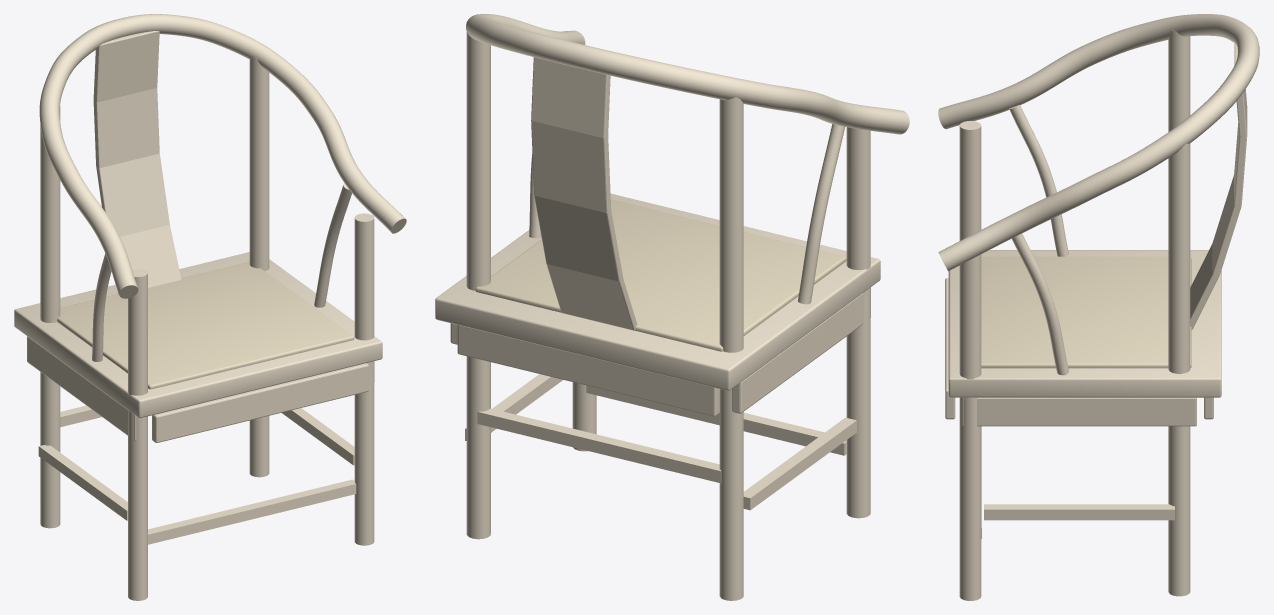
File: sg_desk_chair.glb
3 views of the same model, side by side, from view 1: azimuth 30°, elevation 25°; view 2: azimuth 150°, elevation 25°; view 3: azimuth 270°, elevation 25° (orthographic). The views are drawn at different scales.
Parts seen in each view (by area): view 1: woven, splat, ring, seat, apron, stretch, rear0, front1, front0, rear1, brace1, brace0; view 2: woven, splat, seat, apron, ring, rear0, stretch, rear1, front0, brace0, front1; view 3: woven, ring, seat, rear1, apron, front1, splat, stretch, front0, rear0, brace1, brace0.
Boxes of the visible parts, left/top/right/bottom form: woven: left=57, top=262, right=354, bottom=389; splat: left=93, top=31, right=181, bottom=293; ring: left=39, top=14, right=406, bottom=298; seat: left=14, top=252, right=382, bottom=418; apron: left=27, top=336, right=374, bottom=442; stretch: left=38, top=405, right=356, bottom=544; rear0: left=40, top=105, right=60, bottom=528; front1: left=354, top=213, right=374, bottom=545; front0: left=128, top=268, right=147, bottom=600; rear1: left=249, top=57, right=269, bottom=477; brace1: left=314, top=183, right=351, bottom=307; brace0: left=92, top=253, right=111, bottom=361; woven: left=475, top=199, right=846, bottom=351; splat: left=531, top=57, right=637, bottom=330; seat: left=435, top=193, right=880, bottom=390; apron: left=450, top=287, right=870, bottom=416; ring: left=466, top=14, right=909, bottom=134; rear0: left=719, top=97, right=743, bottom=600; stretch: left=465, top=374, right=856, bottom=510; rear1: left=466, top=31, right=490, bottom=539; front0: left=846, top=127, right=870, bottom=518; brace0: left=798, top=124, right=844, bottom=304; front1: left=572, top=382, right=596, bottom=451; woven: left=981, top=256, right=1191, bottom=368; ring: left=938, top=14, right=1259, bottom=271; seat: left=948, top=250, right=1221, bottom=397; rear1: left=1168, top=143, right=1190, bottom=596; apron: left=945, top=278, right=1213, bottom=426; front1: left=959, top=254, right=981, bottom=600; splat: left=1190, top=42, right=1247, bottom=329; stretch: left=981, top=426, right=1174, bottom=538; front0: left=959, top=121, right=981, bottom=240; rear0: left=1168, top=30, right=1190, bottom=131; brace1: left=1012, top=233, right=1068, bottom=375; brace0: left=1009, top=105, right=1068, bottom=256.
Size of the model in its own units: 0.659 by 1 by 0.5891.
